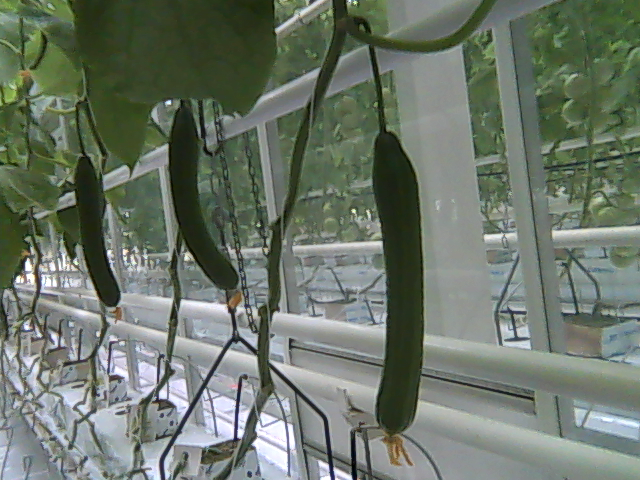concombre: (368, 123, 427, 471), (157, 97, 247, 314), (62, 153, 129, 324)
